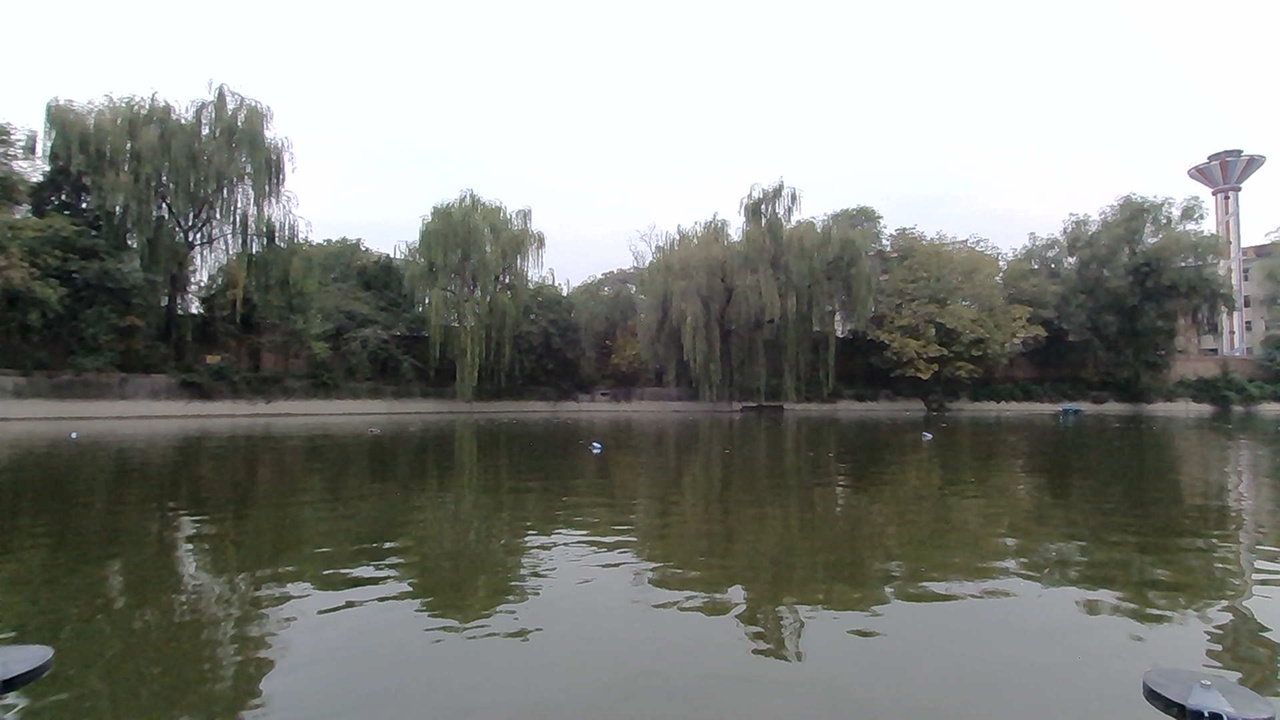bottle: (359, 415, 395, 446), (579, 433, 618, 461), (60, 422, 101, 445), (910, 424, 941, 445)
